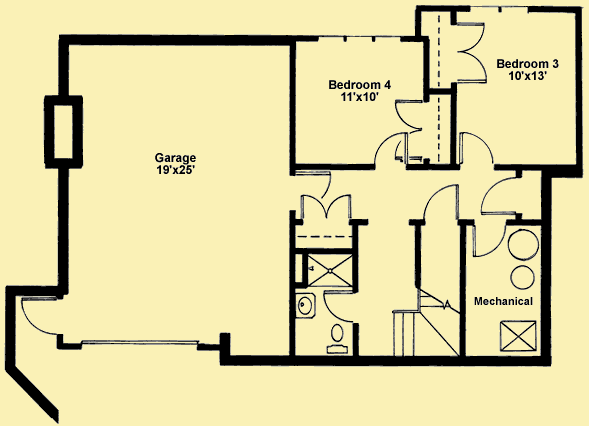door: (449, 22, 487, 82), (297, 192, 353, 221), (22, 297, 61, 338), (421, 184, 461, 223), (478, 178, 516, 216), (457, 128, 493, 168), (471, 223, 508, 259), (393, 96, 427, 133), (322, 289, 354, 324)
large_sink: (324, 321, 351, 355)
small_sink: (293, 291, 317, 321)
stairs: (391, 285, 461, 356)
